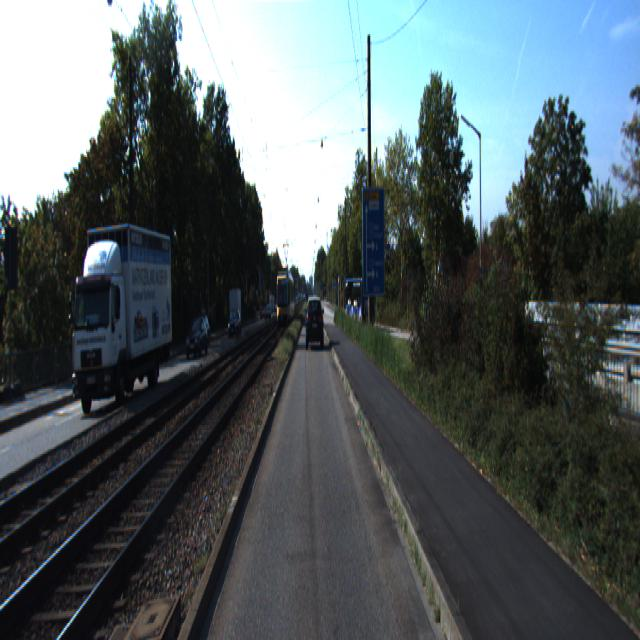Car: (70, 211, 174, 414), (344, 278, 376, 331), (184, 316, 208, 362), (307, 297, 323, 350)
